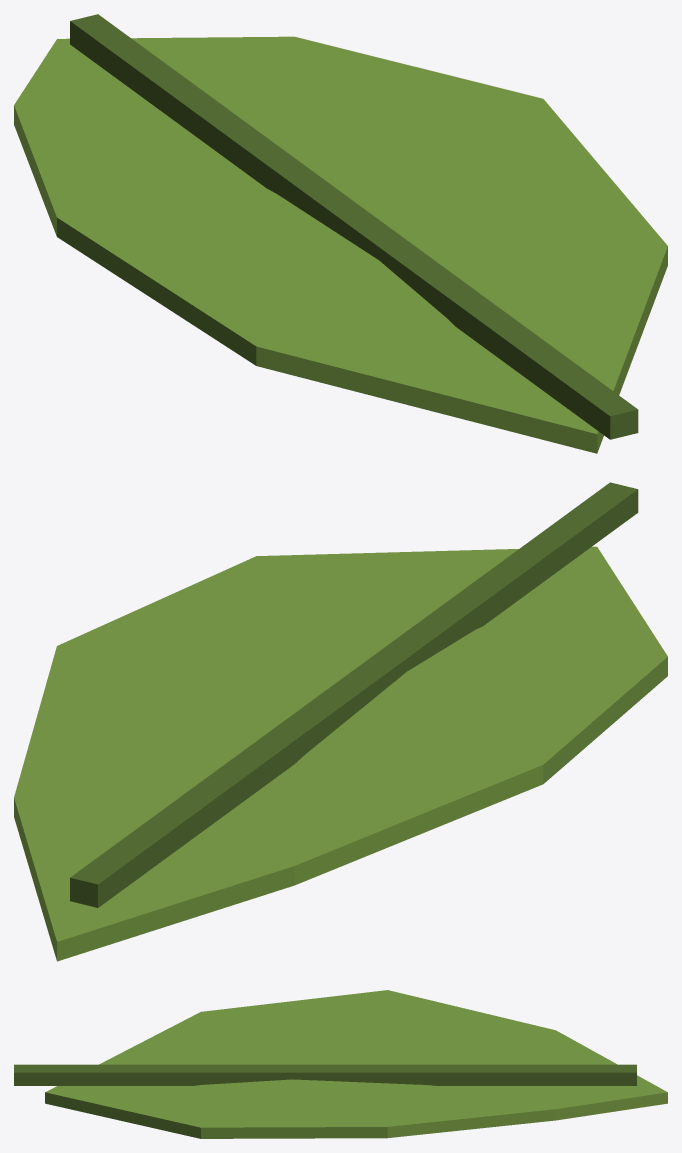
The model's file is Hava_yaprak_1.fbx.
3 views of the same model, one above another, from view 1: azimuth 30°, elevation 25°; view 2: azimuth 150°, elevation 25°; view 3: azimuth 270°, elevation 25° (orthographic). The views are drawn at different scales.
Parts seen in each view (by area): view 1: Hava_yaprak_1; view 2: Hava_yaprak_1; view 3: Hava_yaprak_1.
Boxes of the visible parts, <box> form: Hava_yaprak_1: <box>14,14,667,453</box>; Hava_yaprak_1: <box>14,482,667,961</box>; Hava_yaprak_1: <box>14,990,667,1138</box>.
Bounding box in the file's own units: 0.52 × 0.08 × 1.05.
